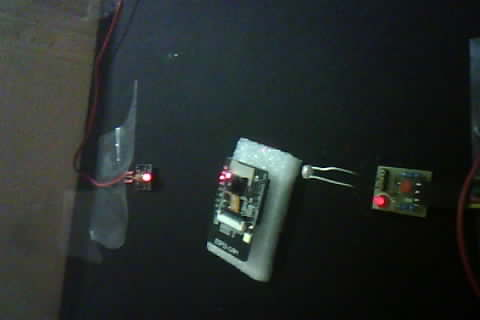esp32: (199, 146, 280, 266)
